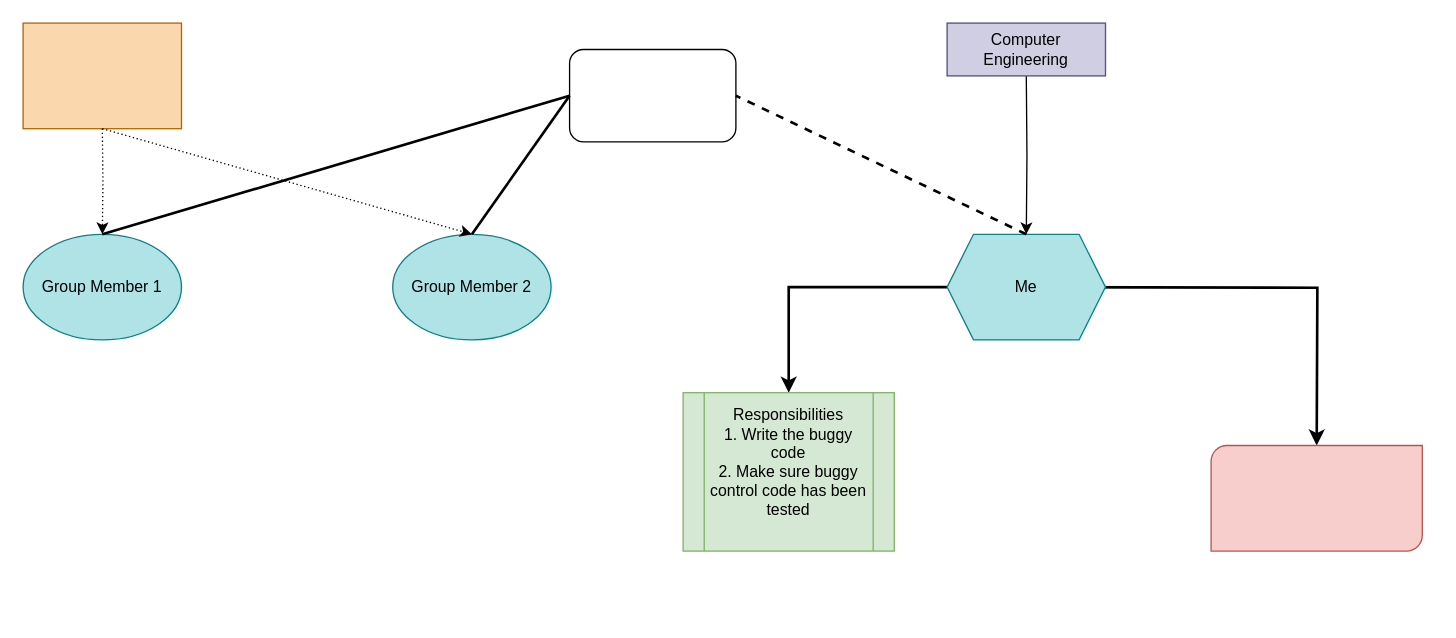
The diagram is 1456 pixels wide and 638 high, and some of its shapes have lost their labels. Here are the shapes that lost their labels. From the top down, the centre of each, then its label:
At point (102, 75): "Electrical and Electronics Engineering".
At point (652, 95): "Buggy Project".
At point (1316, 497): "If code has been completed, help with soldering and anything else".
